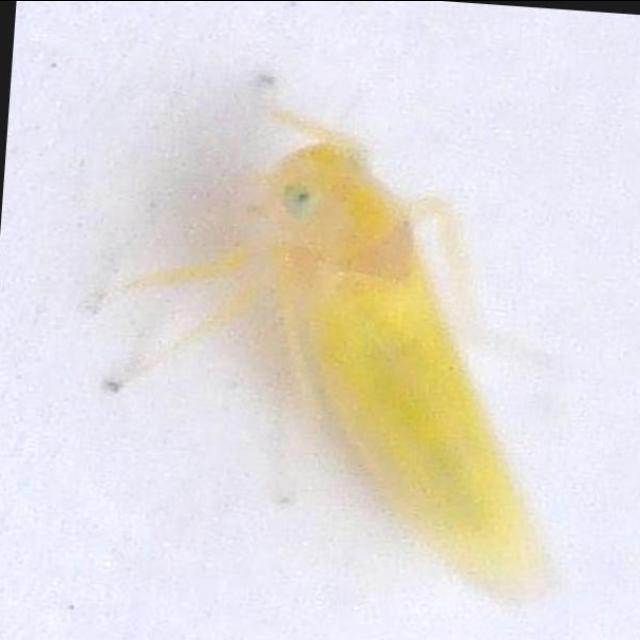green leaf hopper: (143, 114, 538, 589)
